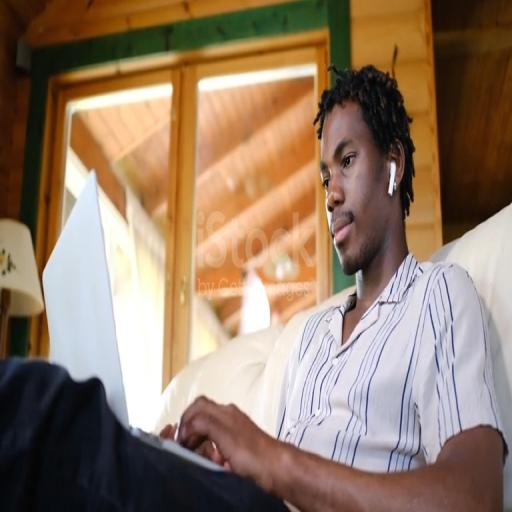earphone: (388, 156, 397, 203)
